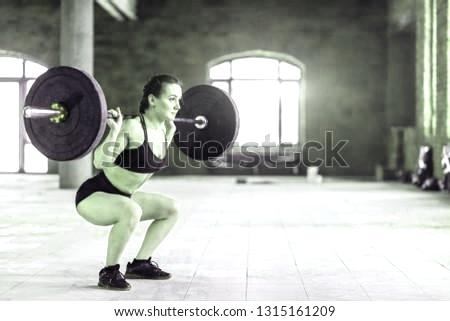Barbell: (21, 107, 35, 120)
